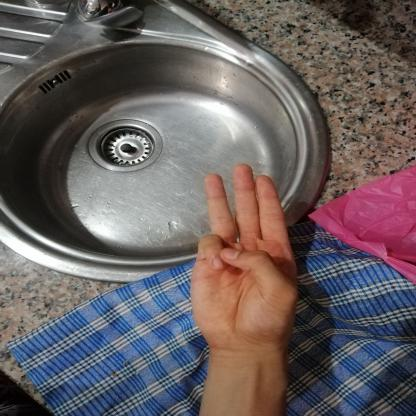THA: (174, 155, 318, 356)
